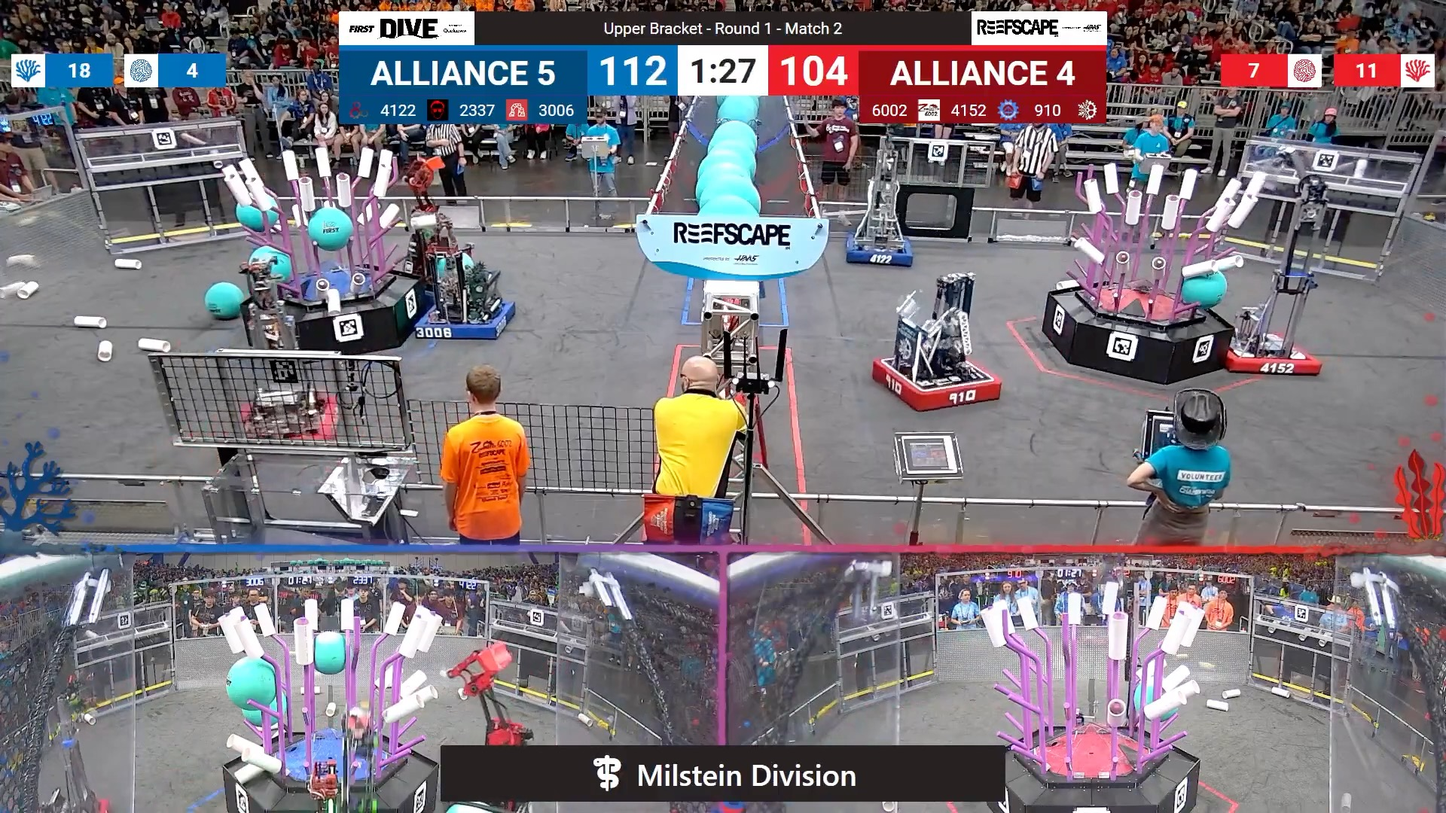bumpers: (868, 352, 1011, 417), (235, 384, 344, 449), (1215, 329, 1327, 382), (409, 294, 523, 346), (835, 231, 923, 271)
